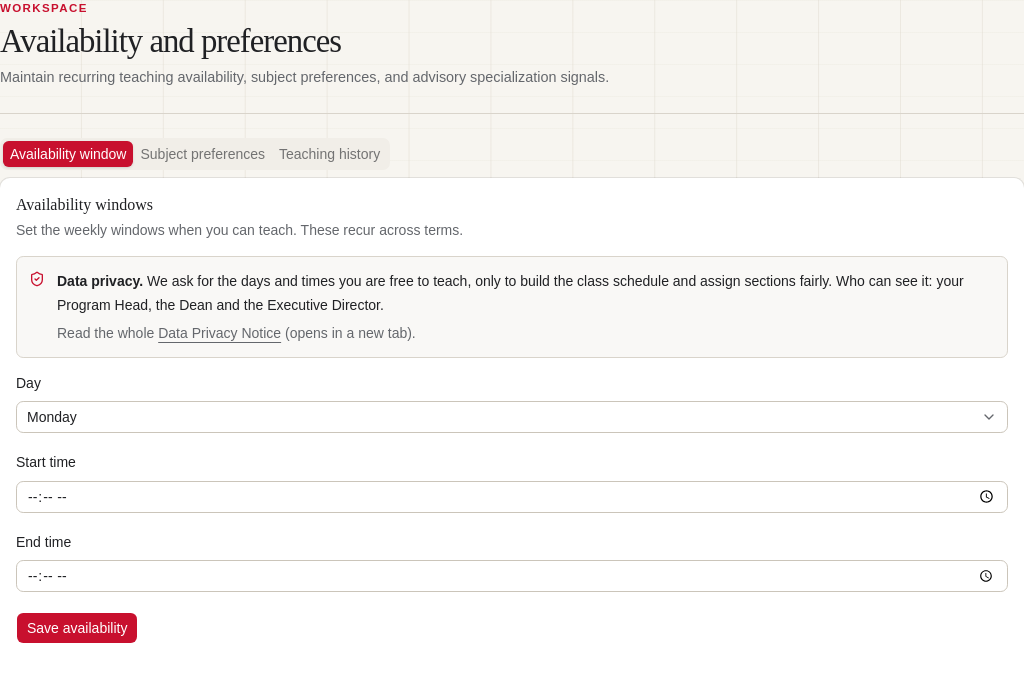
Test: FacultySubjectPreferencePanel › keeps the preference saved and shows a distinct message when only the specialization write fails
Click the tab "Subject preferences": coordinates (203, 154) [134,141,272,167]
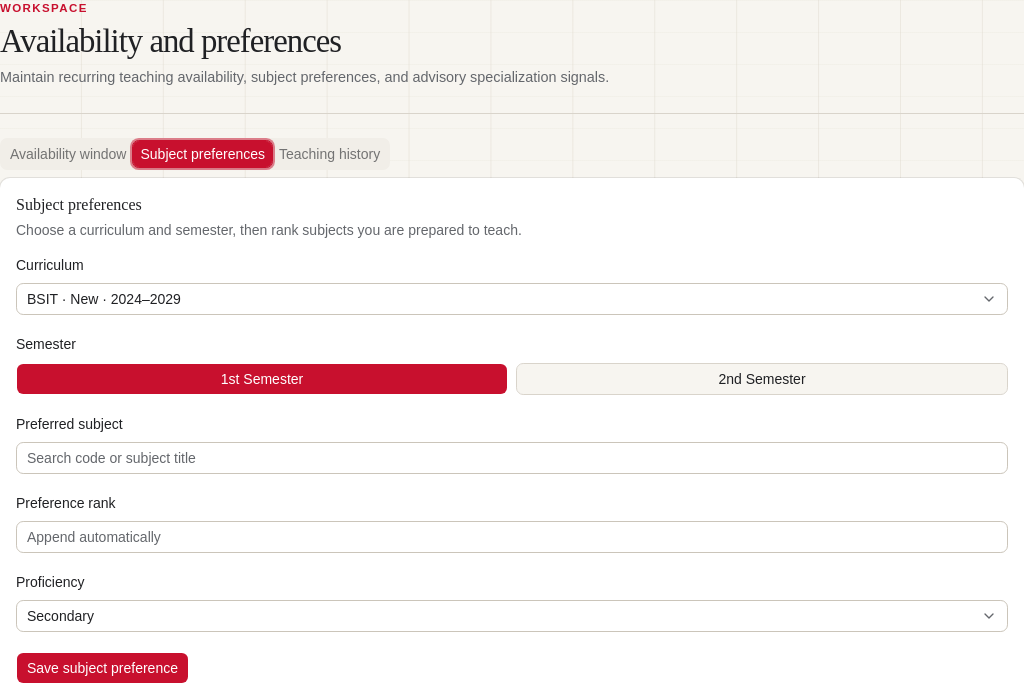
Click the dropdown labelled "Preferred subject": coordinates (512, 458) [16,442,1008,474]
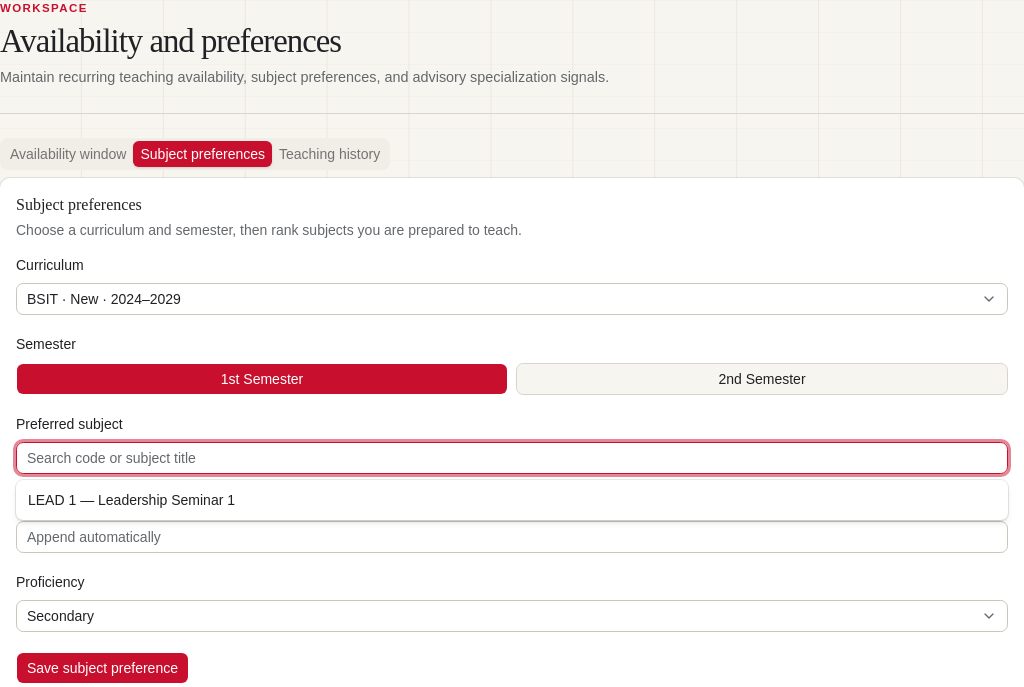
Click the option "LEAD 1 — Leadership Seminar 1": coordinates (132, 500) [28,492,235,508]
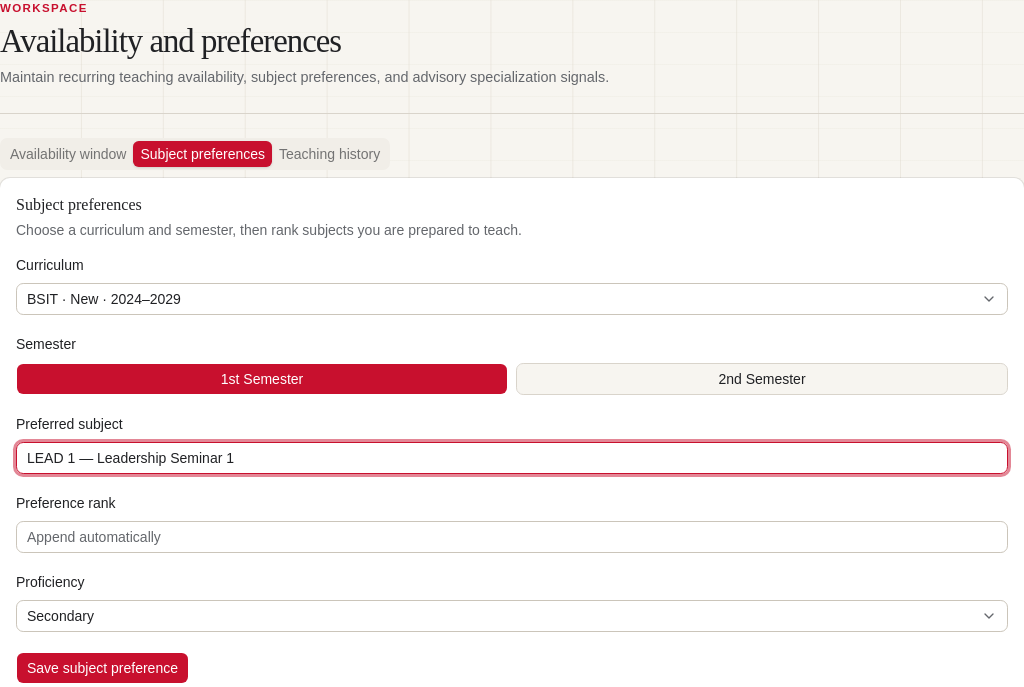
Click the button "Save subject preference": coordinates (102, 668) [16,652,189,684]
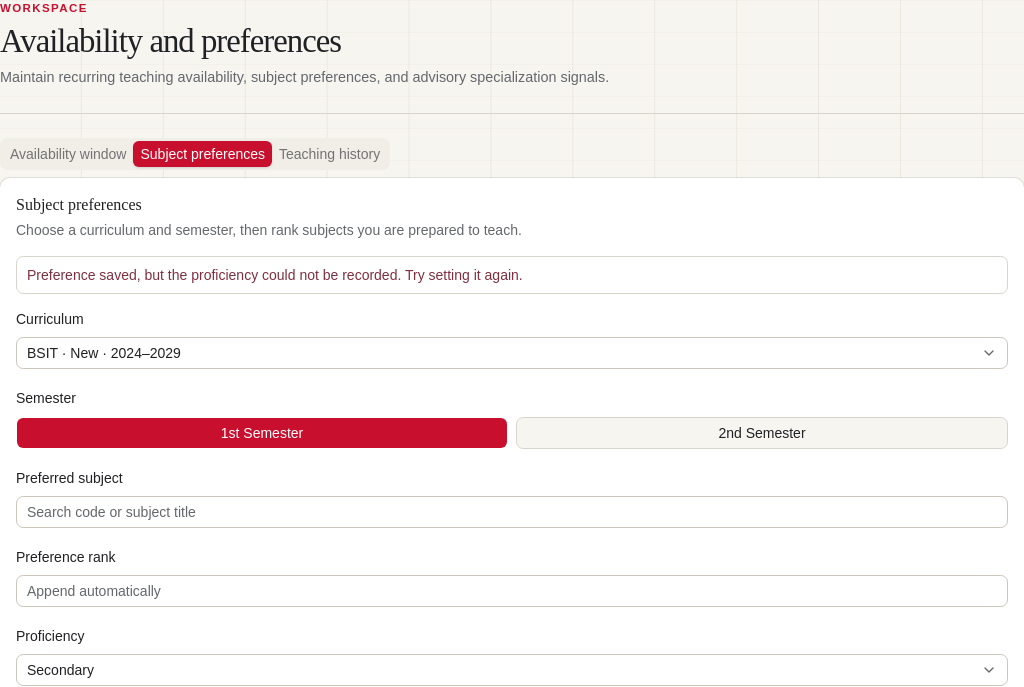
Now the dropdown labelled "Preferred subject" is empty, box [16,496,1008,528]
Now the text "Preference saved, but the proficiency could not be recorded. Try setting it again." is shown, box [27,267,523,283]
